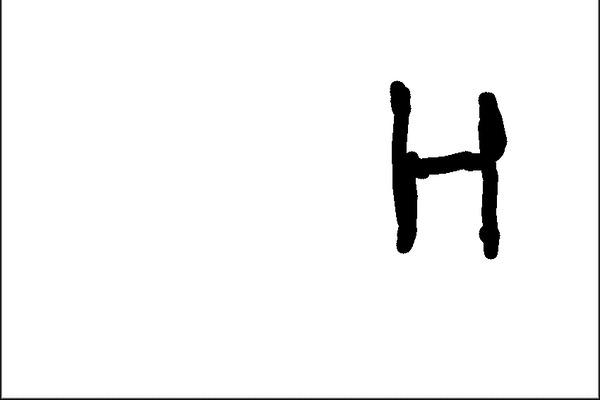H: (384, 72, 510, 263)
